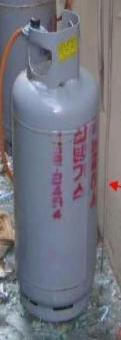cylinder: (1, 1, 121, 340)
